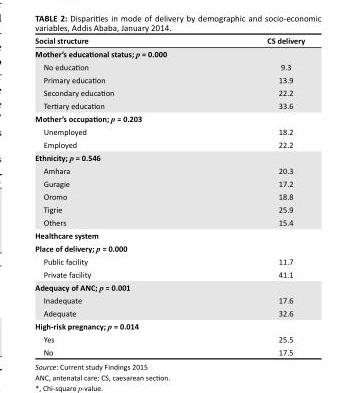table: (34, 34, 304, 356)
table column: (34, 34, 189, 356), (189, 34, 304, 356)
table column header: (34, 34, 304, 46)
table projected row header: (34, 46, 304, 59), (34, 111, 304, 124), (34, 150, 304, 163), (34, 228, 304, 241), (34, 241, 304, 254), (34, 280, 304, 293), (34, 319, 304, 332)
table row: (34, 46, 304, 59), (34, 59, 304, 72), (34, 72, 304, 85), (34, 85, 304, 98), (34, 98, 304, 111), (34, 111, 304, 124), (34, 124, 304, 137), (34, 137, 304, 150), (34, 150, 304, 163), (34, 163, 304, 176), (34, 176, 304, 189), (34, 189, 304, 202), (34, 202, 304, 215), (34, 215, 304, 228), (34, 228, 304, 241), (34, 241, 304, 254), (34, 254, 304, 267), (34, 267, 304, 280), (34, 280, 304, 293), (34, 293, 304, 306), (34, 306, 304, 319), (34, 319, 304, 332), (34, 332, 304, 345), (34, 34, 304, 46), (34, 345, 304, 356)
